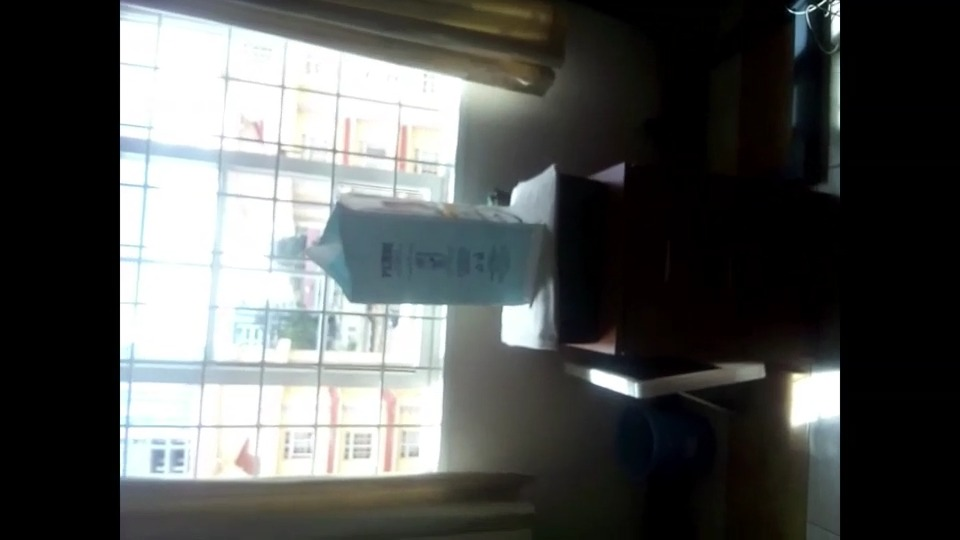wheat_flour_blue_label: (320, 191, 539, 310)
